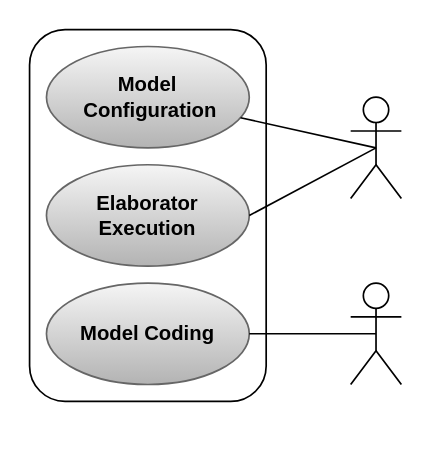
The diagram is 448 pixels wide and 450 high, and some of its shapes have lost their labels. Here are the shapes that lost their labels. From the top down, the centre of each, then its label:
At (375,147): "User".
At (375,332): "Designer".
